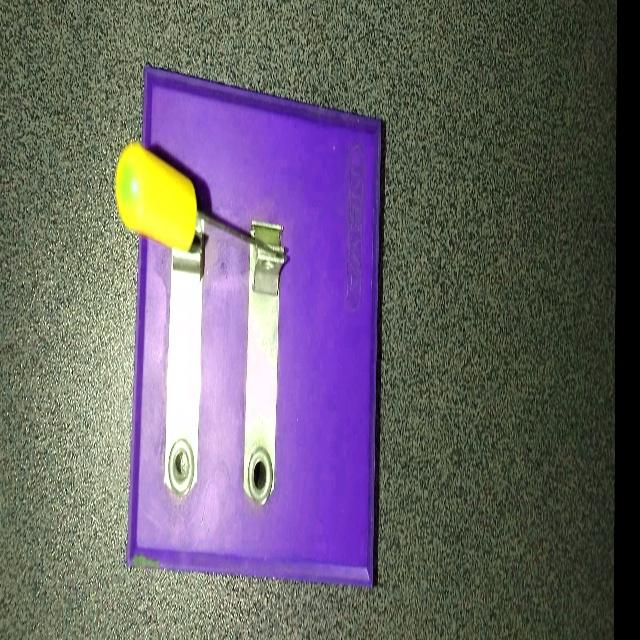L Switch: (100, 46, 400, 614)
